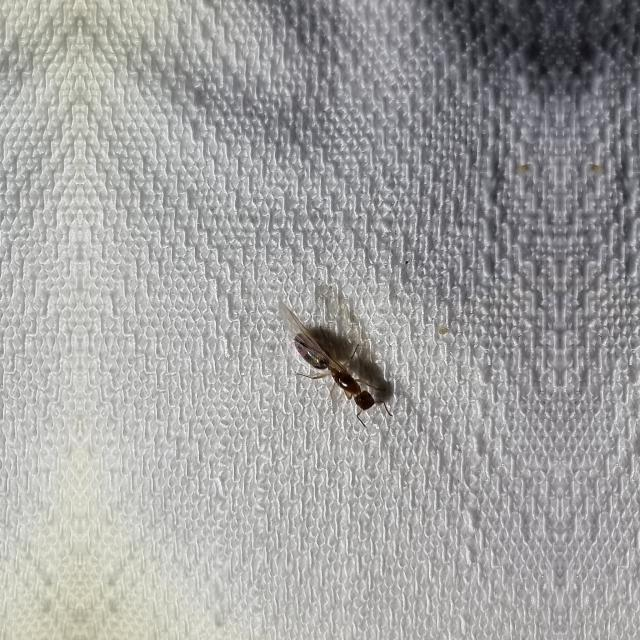Colobopsis: (283, 314, 392, 426)
